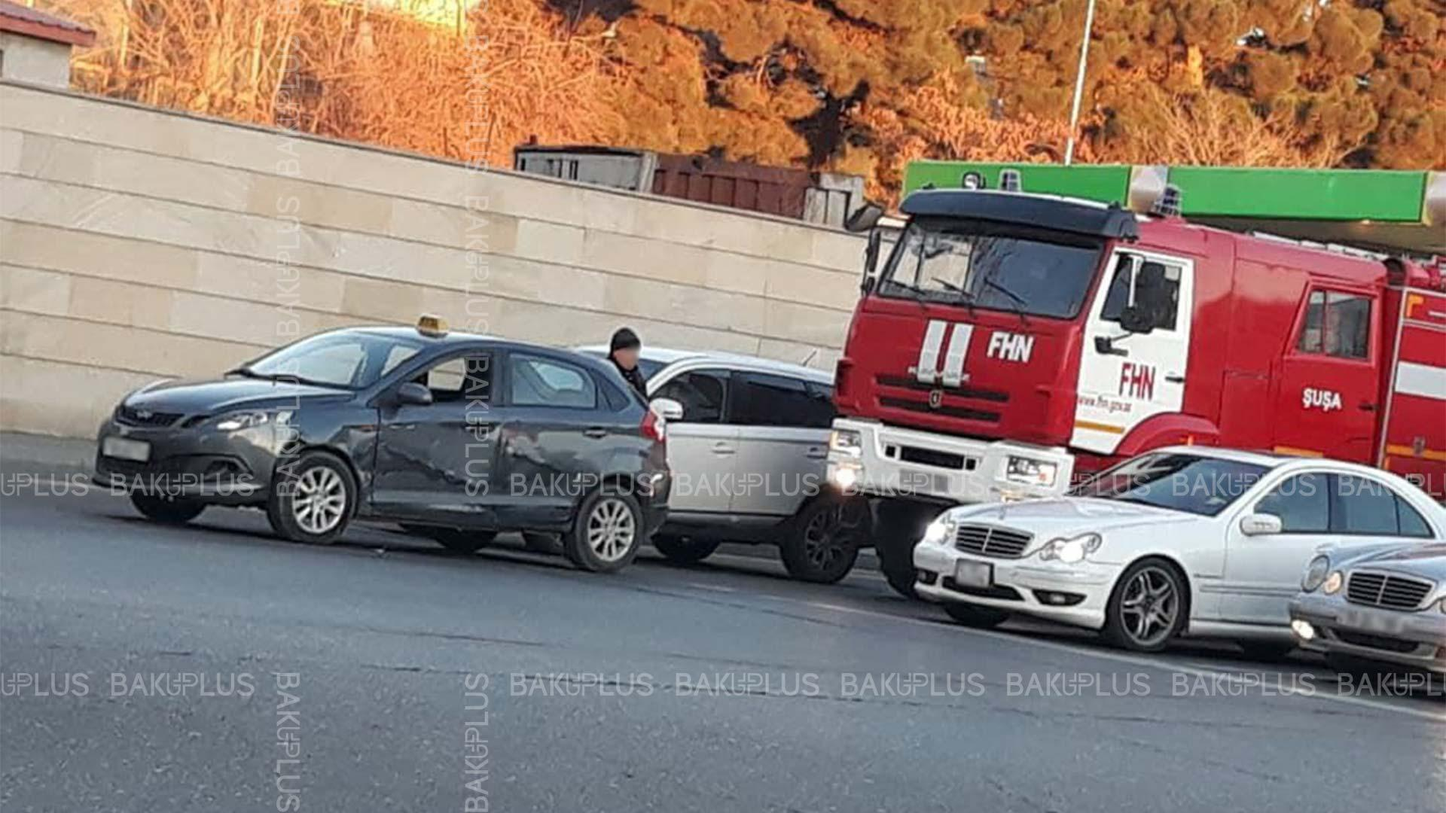Fire-engine: (819, 167, 1423, 499), (1395, 256, 1423, 292)
